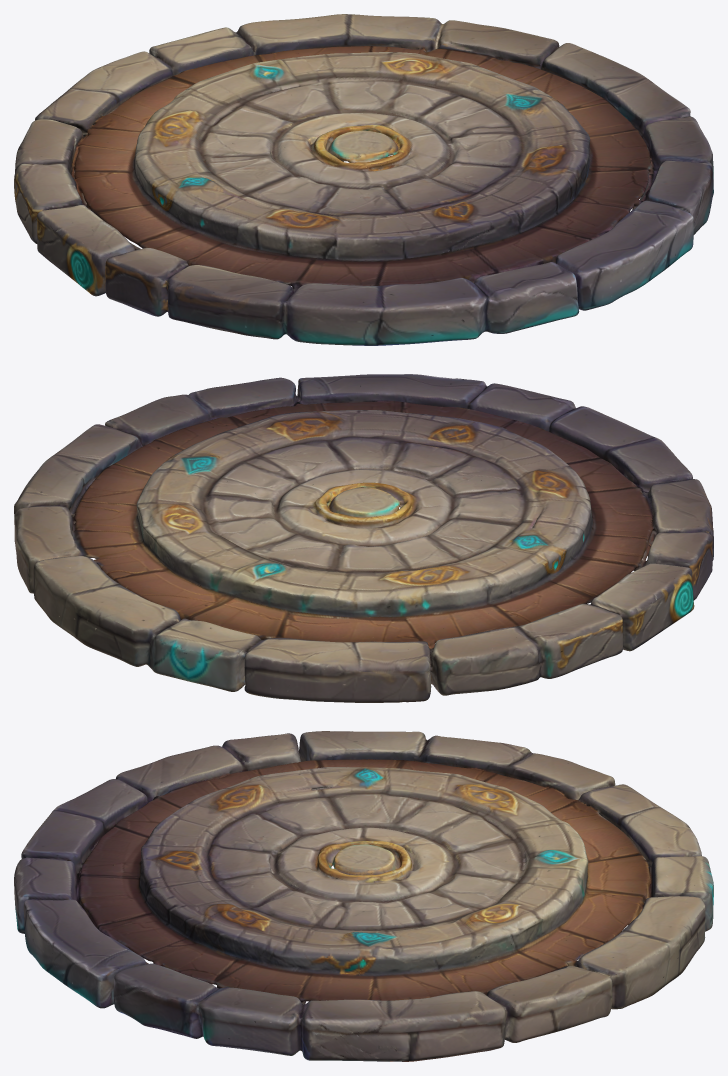
Rendered from AncientRuneStone.glb.
The picture shows the model from 3 angles, top to bottom: view 1: azimuth 30°, elevation 25°; view 2: azimuth 150°, elevation 25°; view 3: azimuth 270°, elevation 25°; orthographic projection.
Size of the model in its own units: 1.98 by 0.1984 by 1.99.
1 material, 1 textured.
